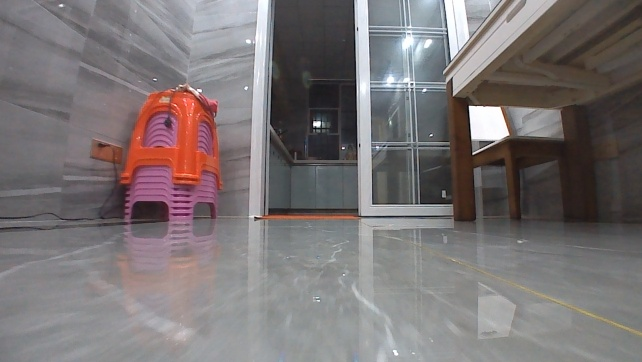blanket: (253, 213, 361, 220)
cupboard: (265, 122, 358, 209)
wire: (96, 142, 118, 221), (0, 210, 93, 224)
